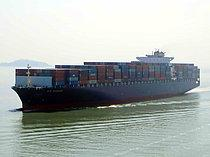Ship: (9, 49, 205, 115)
